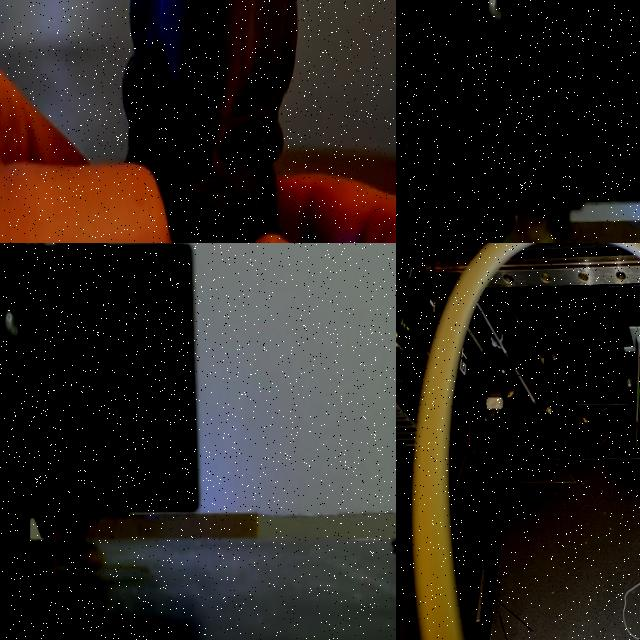spaghetti: (483, 203, 587, 243), (36, 541, 116, 591)
